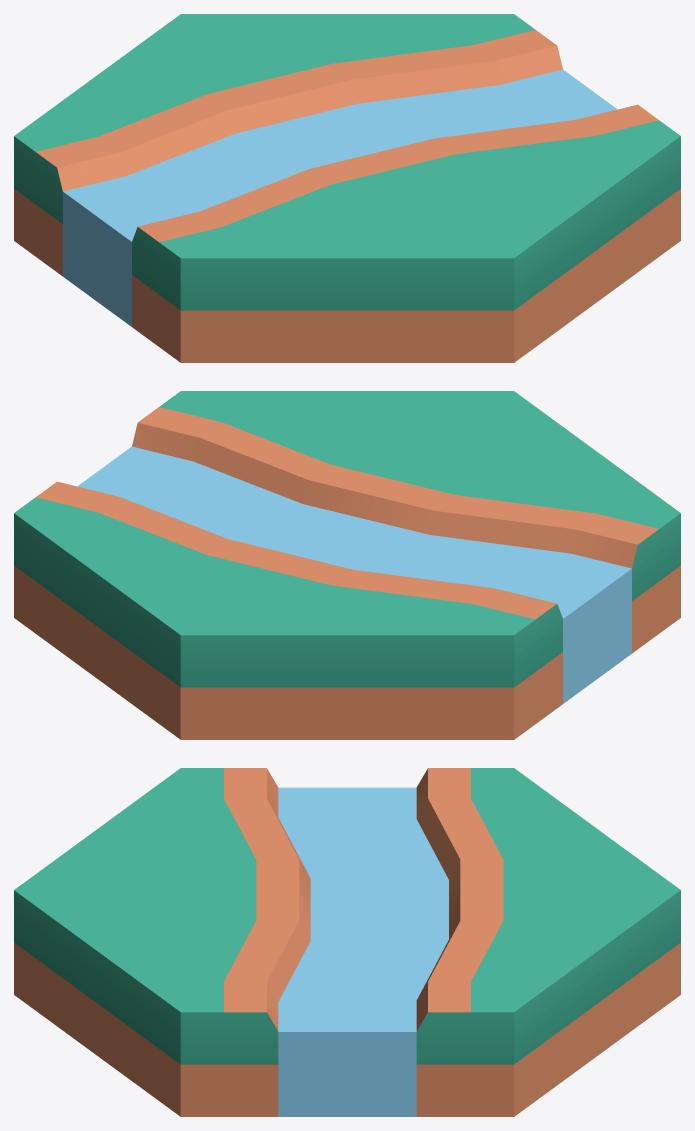
The model's file is kenney-hexagon-river-straight.glb.
The picture shows the model from 3 angles, top to bottom: view 1: azimuth 30°, elevation 25°; view 2: azimuth 150°, elevation 25°; view 3: azimuth 270°, elevation 25°; orthographic projection.
Parts seen in each view (by area): view 1: river_straight; view 2: river_straight; view 3: river_straight.
Boxes of the visible parts, left/top/right/bottom form: river_straight: left=14, top=14, right=680, bottom=362; river_straight: left=14, top=391, right=680, bottom=739; river_straight: left=14, top=768, right=680, bottom=1116.
Bounding box in the file's own units: 1 × 0.2 × 1.15.
Materials: 1 (1 with a texture image).
